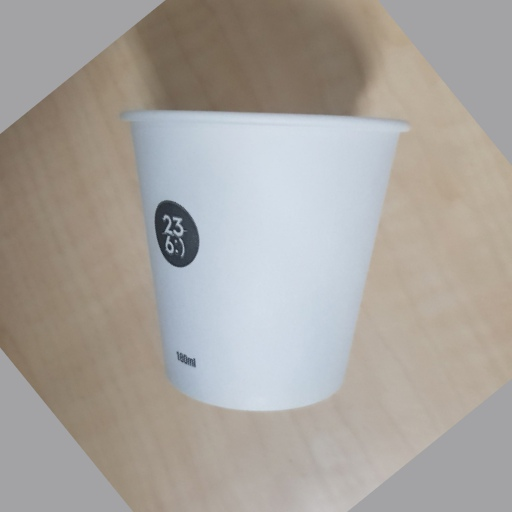Paper_1: (116, 100, 412, 412)
